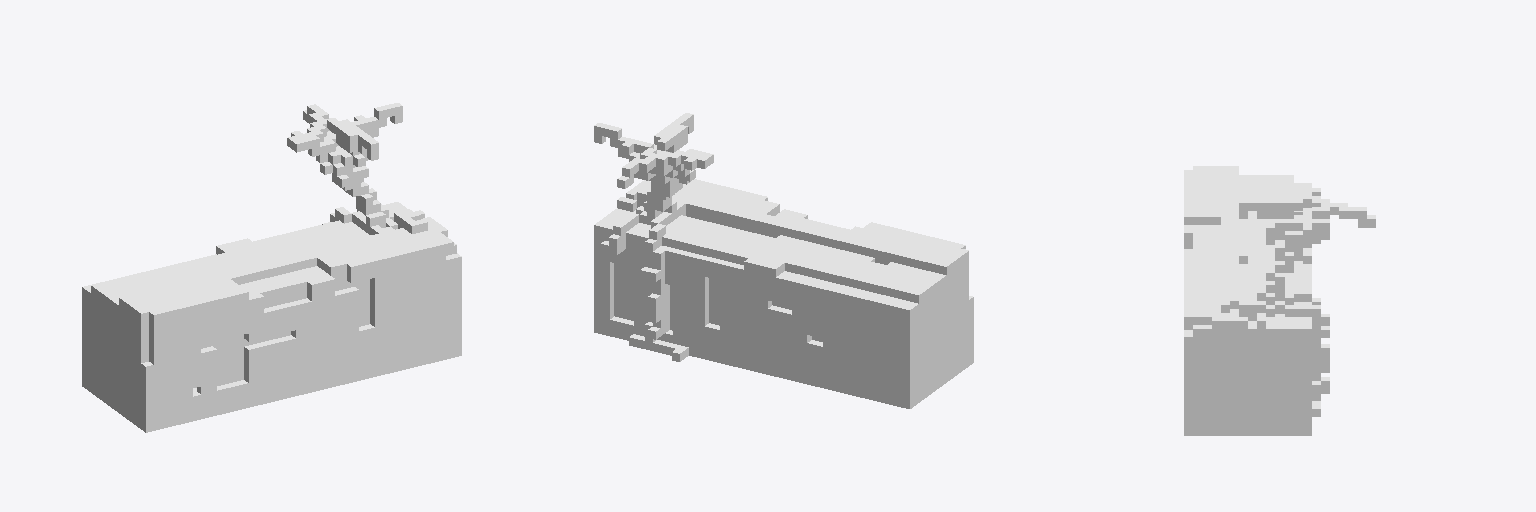
Rendered from newal1.obj.
The picture shows the model from 3 angles: view 1: azimuth 30°, elevation 25°; view 2: azimuth 150°, elevation 25°; view 3: azimuth 270°, elevation 25°; orthographic projection.
Parts seen in each view (by area): view 1: wallprefab; view 2: wallprefab; view 3: wallprefab.
Boxes of the visible parts, <box> form: wallprefab: <box>82,103,461,432</box>; wallprefab: <box>594,113,973,408</box>; wallprefab: <box>1184,166,1375,435</box>.
Bounding box in the file's own units: 4 × 2.5 × 2.1.